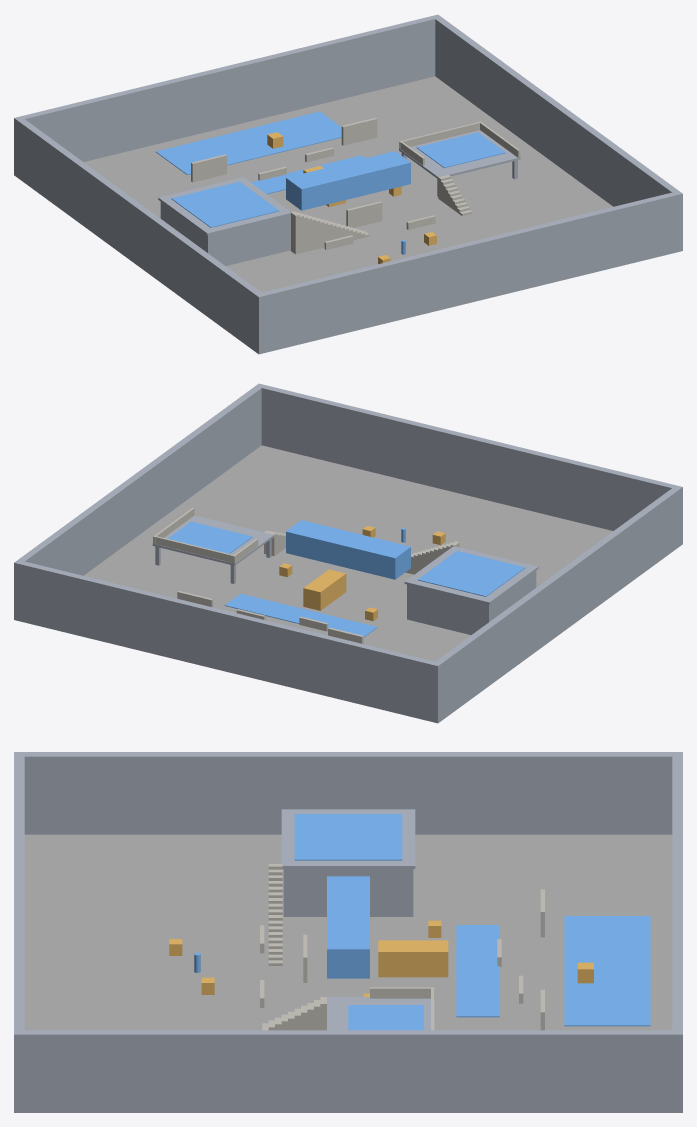
File: arena_map.glb
3 renders of one model, top to bottom at view 1: azimuth 30°, elevation 25°; view 2: azimuth 150°, elevation 25°; view 3: azimuth 270°, elevation 25°, orthographic. The views are drawn at different scales.
Visible parts, largest first — view 1: floor, outer_south, outer_north, outer_west, outer_east, zone_far, zone_flicks, zone_roof, warehouse_south, warehouse_roof, zone_platform, deck (+6 smaller); view 2: floor, outer_north, outer_south, outer_west, outer_east, zone_flicks, zone_roof, warehouse_north, zone_mid, warehouse_roof, zone_platform, container (+3 smaller); view 3: floor, outer_east, outer_west, zone_far, zone_roof, zone_flicks, zone_mid, outer_north, outer_south, warehouse_roof, container, warehouse_east_a (+4 smaller).
Part boxes in pixels (box(x1,y1,x2,y2)): floor: box(83, 76, 613, 292); outer_south: box(255, 192, 682, 354); outer_north: box(14, 15, 440, 177); outer_west: box(14, 118, 265, 353); outer_east: box(431, 14, 682, 250); zone_far: box(155, 111, 341, 175); zone_flicks: box(286, 151, 410, 210); zone_roof: box(171, 181, 278, 227); warehouse_south: box(206, 216, 289, 265); warehouse_roof: box(158, 177, 290, 235); zone_platform: box(416, 132, 505, 168); deck: box(399, 130, 520, 178); floor: box(83, 445, 613, 661); outer_north: box(14, 561, 441, 723); outer_south: box(257, 384, 682, 546); outer_west: box(431, 488, 682, 723); outer_east: box(14, 383, 264, 621); zone_flicks: box(286, 520, 410, 579); zone_roof: box(418, 550, 525, 596); warehouse_north: box(407, 585, 489, 634); zone_mid: box(224, 593, 377, 637); warehouse_roof: box(404, 546, 538, 604); zone_platform: box(168, 521, 252, 553); container: box(303, 569, 346, 610); floor: box(24, 834, 672, 1030); outer_east: box(14, 1030, 682, 1112); outer_west: box(14, 752, 682, 834); zone_far: box(564, 916, 650, 1026); zone_roof: box(294, 814, 402, 860); zone_flicks: box(327, 876, 369, 978); zone_mid: box(456, 925, 499, 1017); outer_north: box(672, 752, 682, 1112); outer_south: box(14, 752, 24, 1112); warehouse_roof: box(281, 809, 415, 868); container: box(378, 940, 448, 977); warehouse_east_a: box(283, 869, 335, 916).
Bounding box in the file's own units: 62 × 8.2 × 62.
